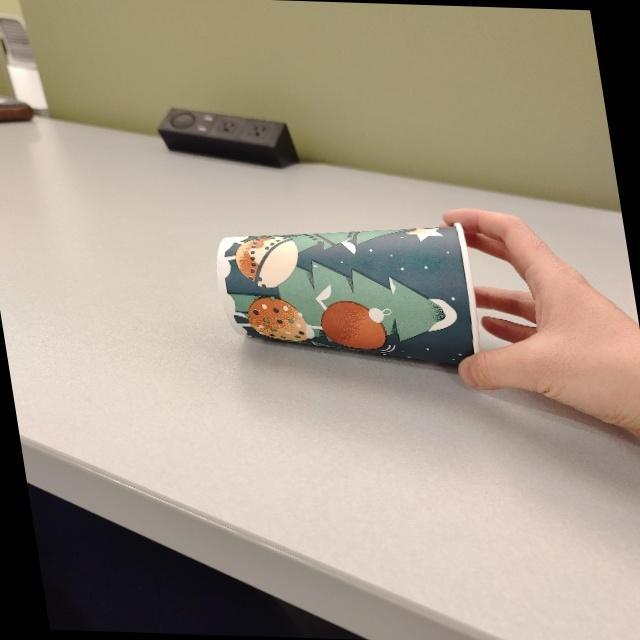timmies: (214, 221, 486, 369)
